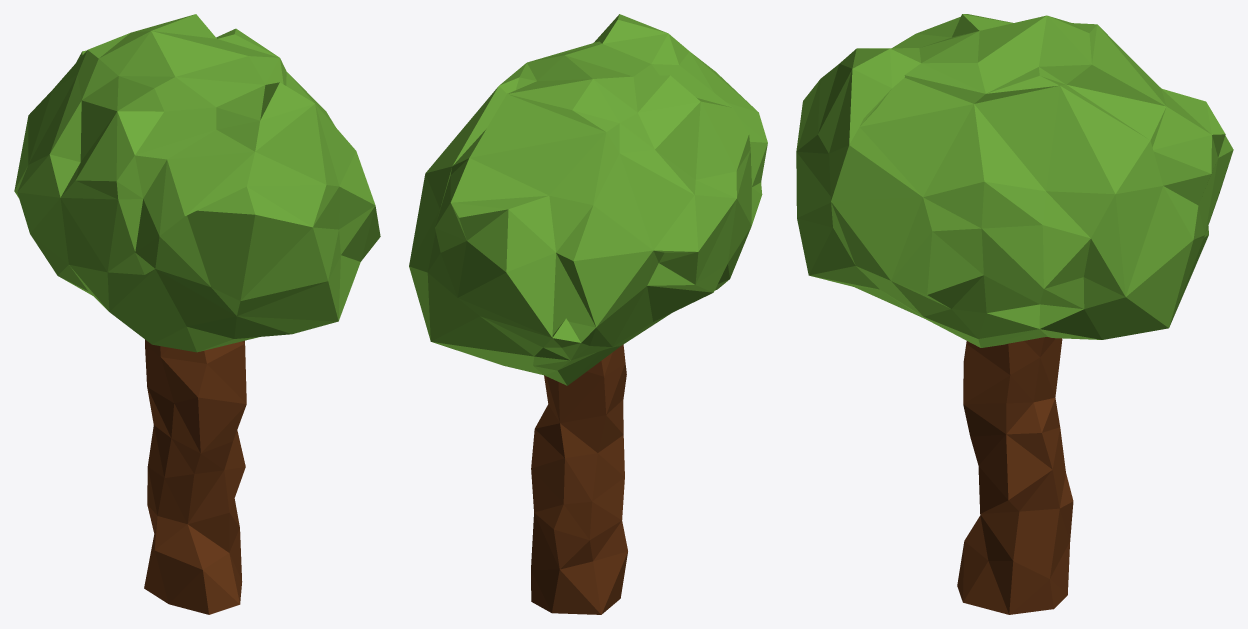
Rendered from las_tree_S.fbx.
3 views of the same model, side by side, from view 1: azimuth 30°, elevation 25°; view 2: azimuth 150°, elevation 25°; view 3: azimuth 270°, elevation 25° (orthographic). The views are drawn at different scales.
Visible parts, largest first — view 1: tree S; view 2: tree S; view 3: tree S.
Boxes of the visible parts, left/top/right/bottom form: tree S: left=14, top=14, right=380, bottom=614; tree S: left=409, top=14, right=767, bottom=614; tree S: left=796, top=14, right=1233, bottom=614.
Size of the model in its own units: 198 by 356 by 250.
